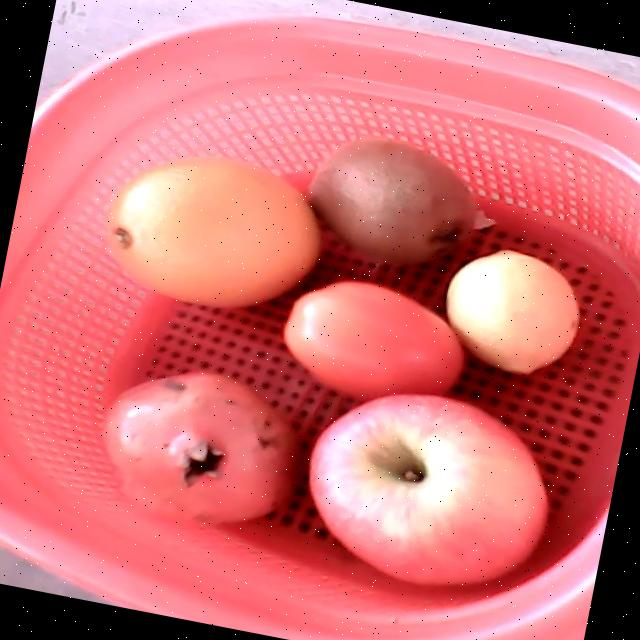apple: (310, 393, 549, 583)
kiwi: (308, 138, 474, 265)
lemon: (447, 248, 579, 374)
orange: (108, 155, 323, 307)
pomegranate: (103, 369, 299, 529)
tomato: (288, 282, 463, 400)
